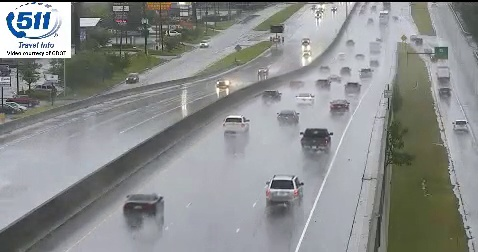car: (123, 194, 164, 219), (266, 176, 302, 204), (301, 128, 331, 150), (222, 115, 249, 133), (277, 110, 299, 125), (330, 100, 350, 114)
